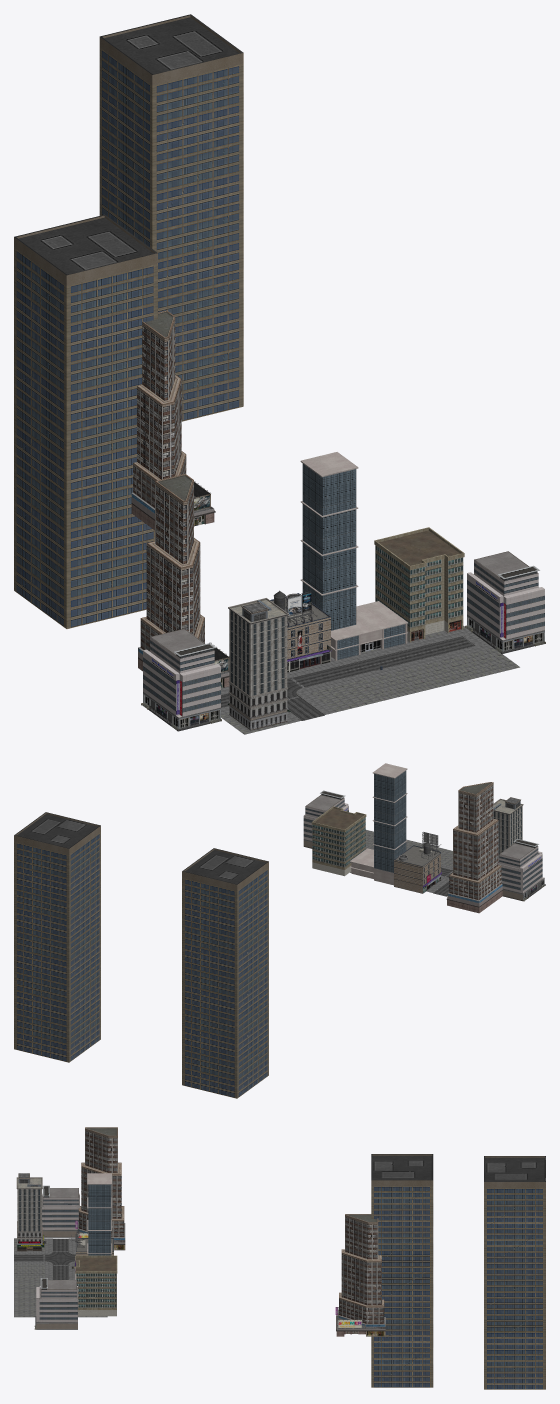
The model's file is out_buildings.fbx.
The picture shows the model from 3 angles, top to bottom: view 1: azimuth 30°, elevation 25°; view 2: azimuth 150°, elevation 25°; view 3: azimuth 270°, elevation 25°; orthographic projection. The views are drawn at different scales.
Visible parts, largest first — view 1: back_building1, back_building1__1_, building_2a__1_, building11a, building11a__1_, building14a, building8a, building10b__2_, building10b__1_, building12a, floor3__2_, floor3 (+2 smaller); view 2: back_building1, back_building1__1_, building11a, building_2a__1_, building14a, building10b__2_, building12a, building8a, building10b__1_; view 3: back_building1__1_, back_building1, building11a__1_, building11a, building14a, building10b__1_, building_2a__1_, building8a, building10b__2_, floor3__2_, floor3, road_X__1_.
Part boxes in pixels (x1,y1,x2,y2): back_building1: (14,214,157,628); back_building1__1_: (99,14,243,421); building_2a__1_: (300,452,407,660); building11a: (138,473,229,687); building11a__1_: (131,310,215,530); building14a: (374,527,464,642); building8a: (228,598,290,730); building10b__2_: (141,628,221,731); building10b__1_: (465,551,545,653); building12a: (270,593,331,672); floor3__2_: (310,681,381,712); floor3: (356,670,427,700); back_building1: (182,848,268,1098); back_building1__1_: (14,812,100,1062); building11a: (446,782,502,913); building_2a__1_: (349,763,407,885); building14a: (311,806,366,876); building10b__2_: (498,838,545,901); building12a: (394,845,441,893); building8a: (493,797,523,862); building10b__1_: (303,790,348,848); back_building1__1_: (484,1156,545,1389); back_building1: (371,1154,433,1387); building11a__1_: (335,1214,385,1336); building11a: (75,1127,125,1250); building14a: (75,1255,117,1316); building10b__1_: (34,1278,77,1329); building_2a__1_: (75,1173,111,1279); building8a: (16,1173,46,1251); building10b__2_: (42,1185,79,1237); floor3__2_: (14,1264,45,1277); floor3: (14,1277,44,1290); road_X__1_: (45,1251,75,1264).
Bounding box in the file's own units: 14931 × 14019 × 26217.
